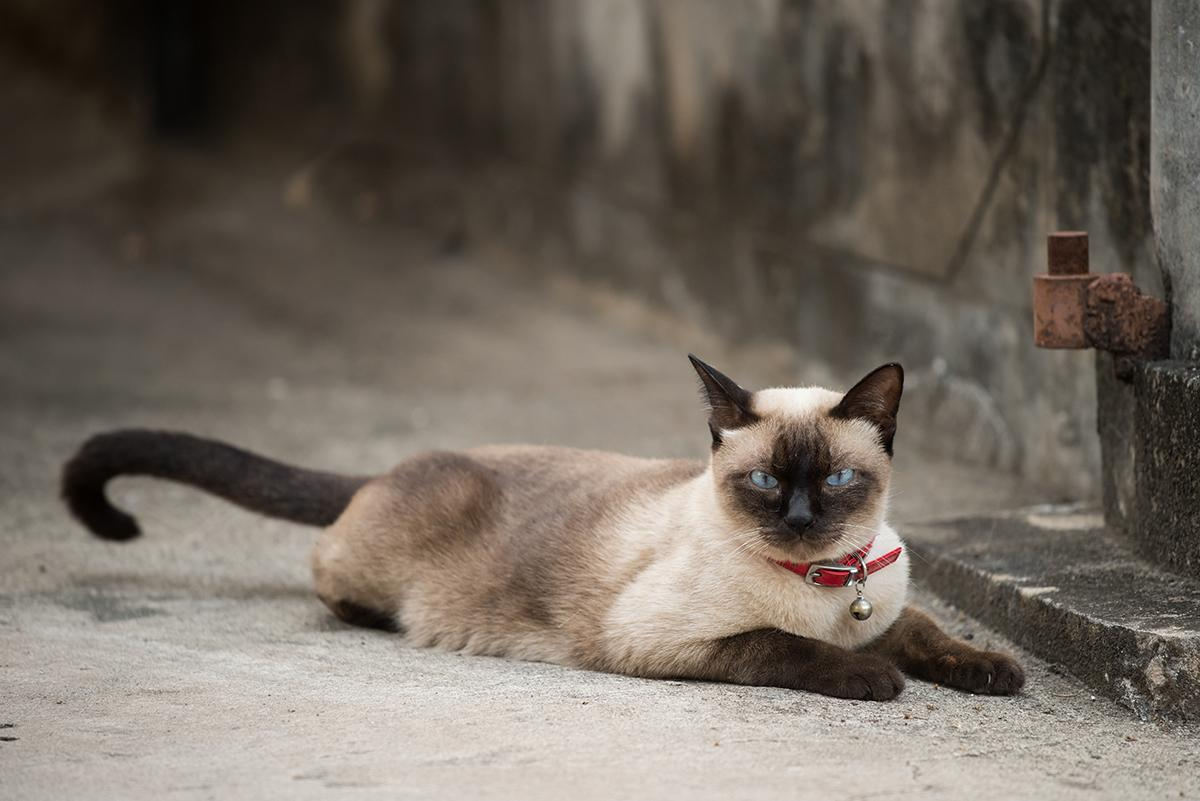siamese: (686, 349, 914, 576)
